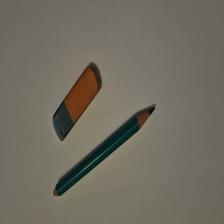eraser: (54, 67, 102, 143)
pencil: (54, 108, 157, 198)
